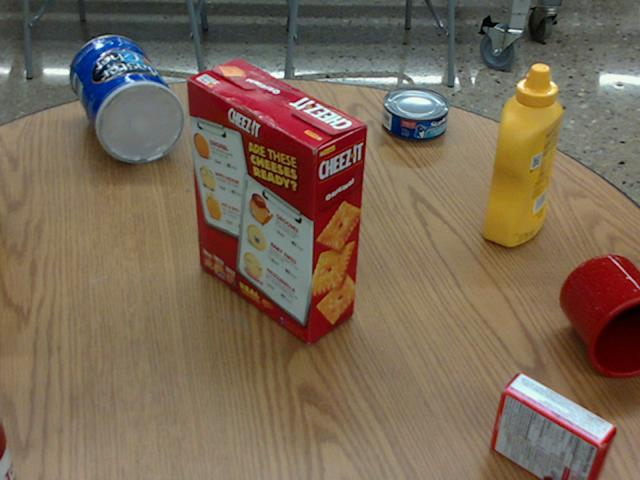cracker_box: (190, 60, 369, 342)
gelatin_box: (491, 374, 616, 479)
master_chef_can: (72, 36, 186, 163)
mug: (560, 254, 639, 377)
mustard_bottle: (483, 64, 563, 245)
potted_meat_can: (262, 86, 343, 197)
tomato_soup_can: (0, 389, 21, 479)
tuna_fish_can: (383, 85, 450, 140)
